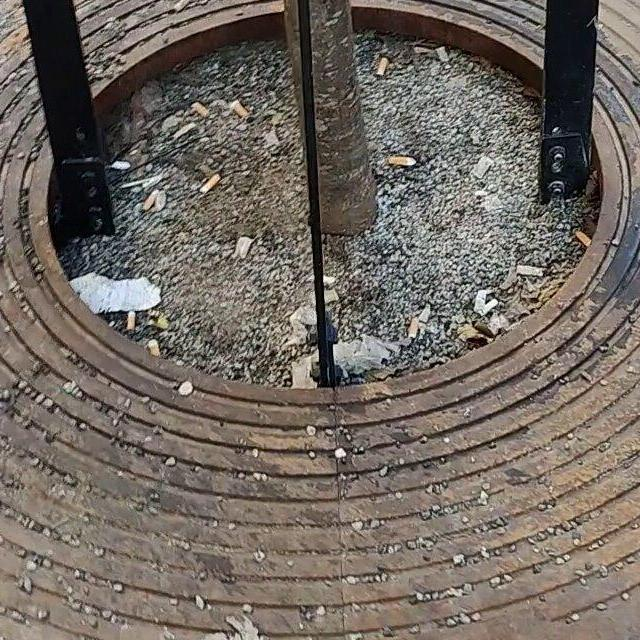Cigarette Butt: (200, 175, 224, 195), (389, 155, 417, 170), (231, 99, 250, 121), (573, 230, 593, 250), (147, 332, 162, 358), (143, 188, 160, 209), (125, 310, 139, 331), (377, 57, 389, 78), (407, 321, 419, 342), (193, 105, 207, 118)
